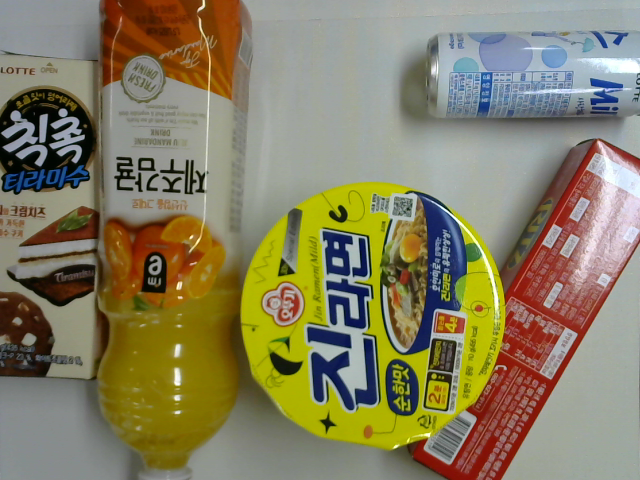Chicchok_Tiramisu: (1, 48, 105, 382)
Jeju_Tangerine_1.5L: (89, 1, 255, 480)
Jinlamyeon_Mild_Taste_Large_Cup: (238, 176, 509, 454)
Milkies_250ml: (424, 26, 640, 121)
Ritz_Cracker: (404, 136, 639, 480)
